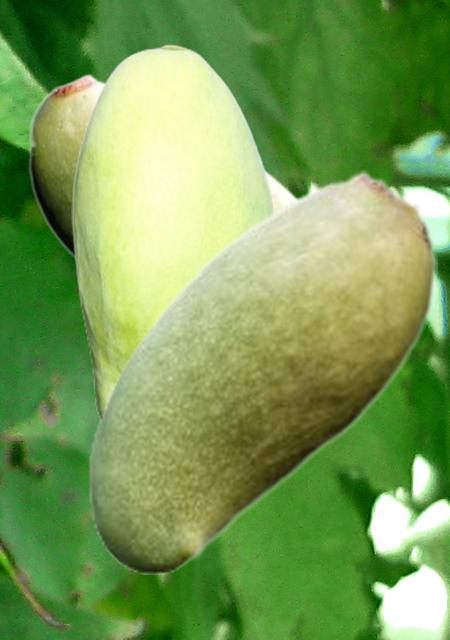green_mango: (87, 170, 436, 573), (71, 44, 274, 418), (28, 72, 298, 259)
